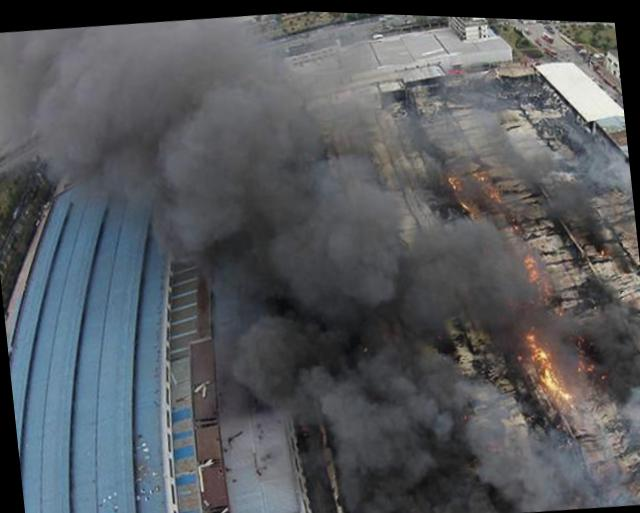fire: (538, 344, 558, 383), (526, 327, 536, 348)
